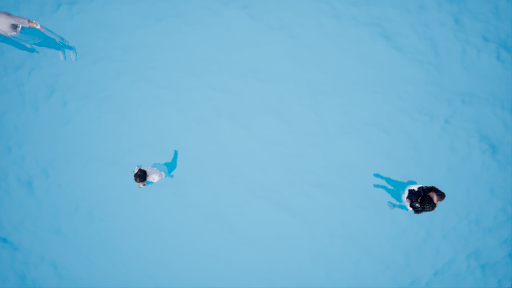person: (1, 7, 78, 61), (365, 169, 448, 219), (124, 146, 185, 188)
